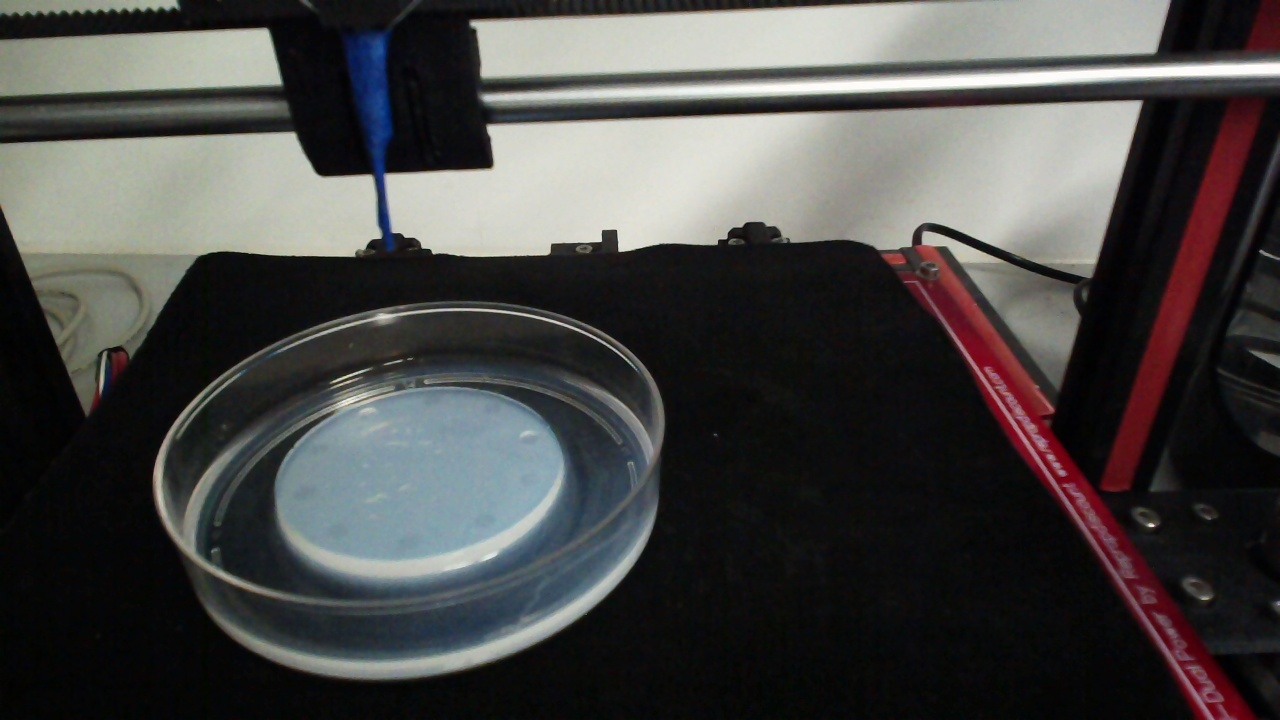groove: (288, 482, 317, 503), (394, 533, 421, 554), (518, 468, 543, 488), (304, 438, 330, 457), (470, 511, 496, 530), (325, 522, 349, 542), (480, 399, 501, 418), (356, 406, 378, 424), (516, 429, 540, 445), (423, 390, 443, 408)
needle: (346, 40, 391, 251)
